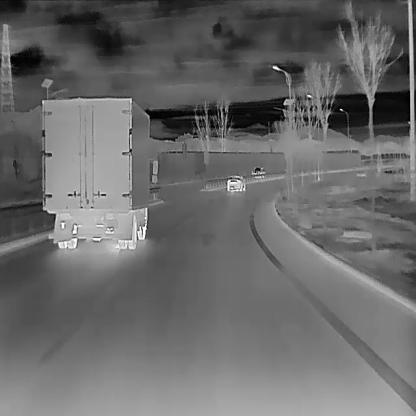car: (40, 96, 157, 249), (226, 174, 246, 191), (251, 165, 265, 178)
